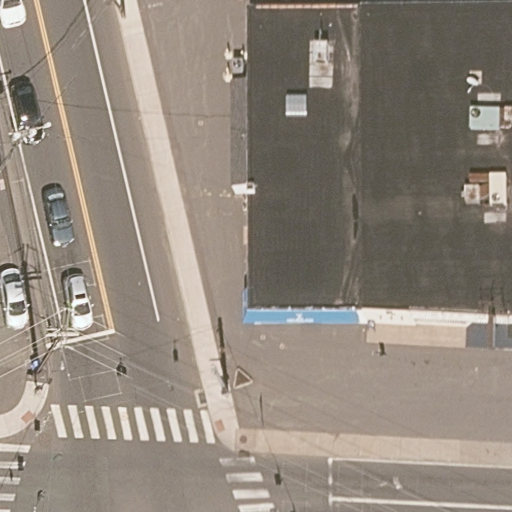DT: (32, 305, 81, 376), (1, 114, 52, 177)
